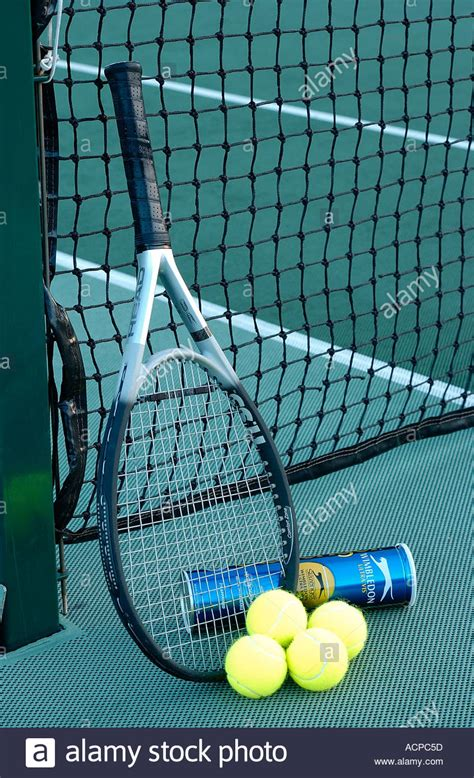tennis_ball: (287, 627, 350, 692), (224, 636, 286, 701), (307, 599, 367, 659), (245, 590, 307, 646)
